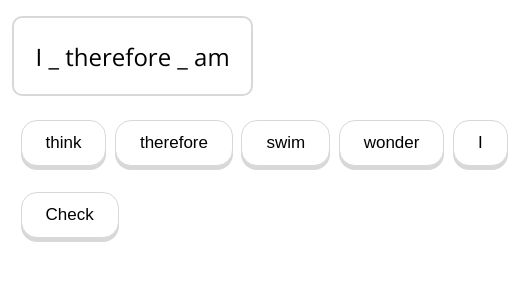
Test: can check if user has inputted correct answer
The width and height of the screenshot is (525, 301).
What coordinates should you click on to do the following:
click the button "think"
I would click on:
 (63, 143)
Its box is [20, 120, 106, 166].
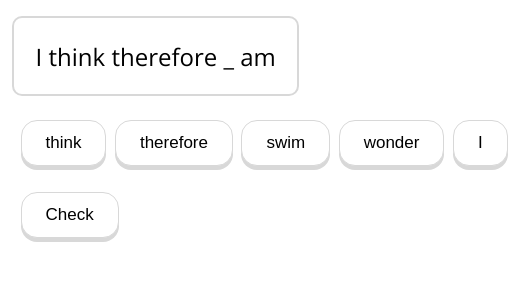
expect the text "I think therefore _ am" is shown: met, box [12, 16, 299, 96]
What coordinates should you click on to do the following:
click the button "I"
I would click on:
 (480, 143)
Its box is [453, 120, 508, 166].
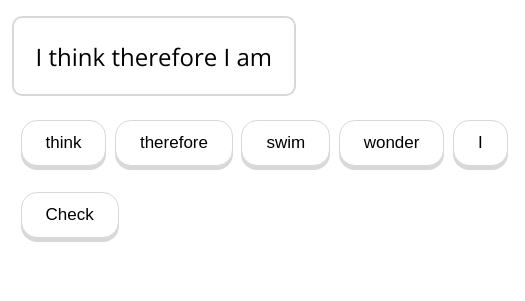
expect the text "I think therefore I am" is shown: met, box [12, 16, 296, 96]
What coordinates should you click on to do the following:
click the button "Check"
I would click on:
 (70, 215)
Its box is [20, 192, 119, 238].
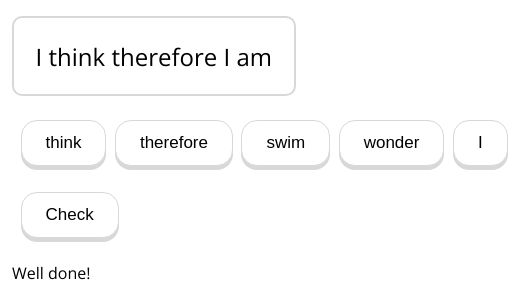
expect the text "Well done!" is shown: met, box [12, 262, 90, 284]
